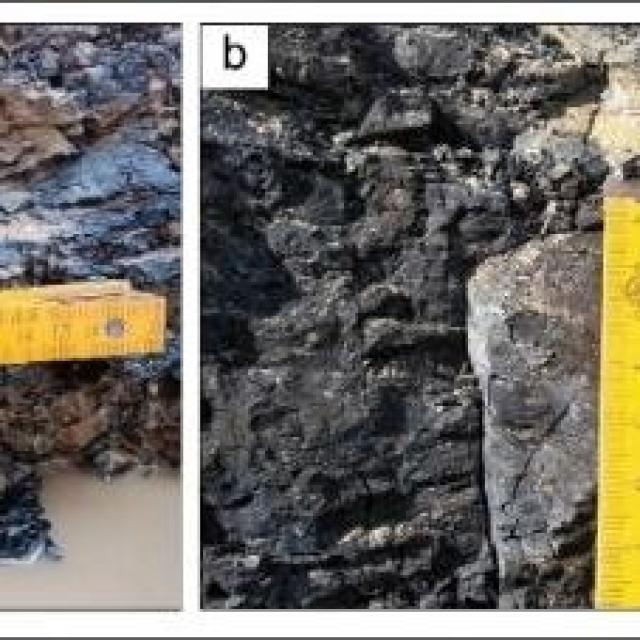Pecahan Agregat: (446, 199, 640, 640)
